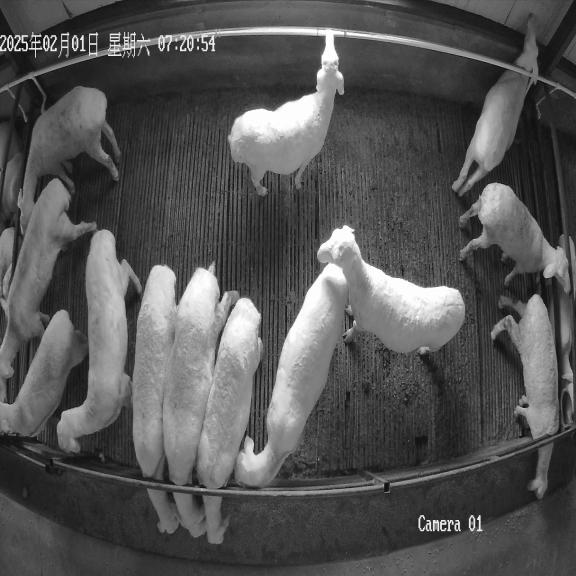eating: (163, 263, 239, 537), (196, 297, 263, 544), (490, 294, 560, 499), (132, 265, 180, 534)
stand: (235, 266, 348, 486), (228, 30, 344, 196), (317, 226, 465, 355), (0, 179, 96, 377), (57, 230, 131, 452), (452, 14, 538, 197), (18, 86, 120, 233), (459, 182, 571, 294), (0, 310, 88, 436)
